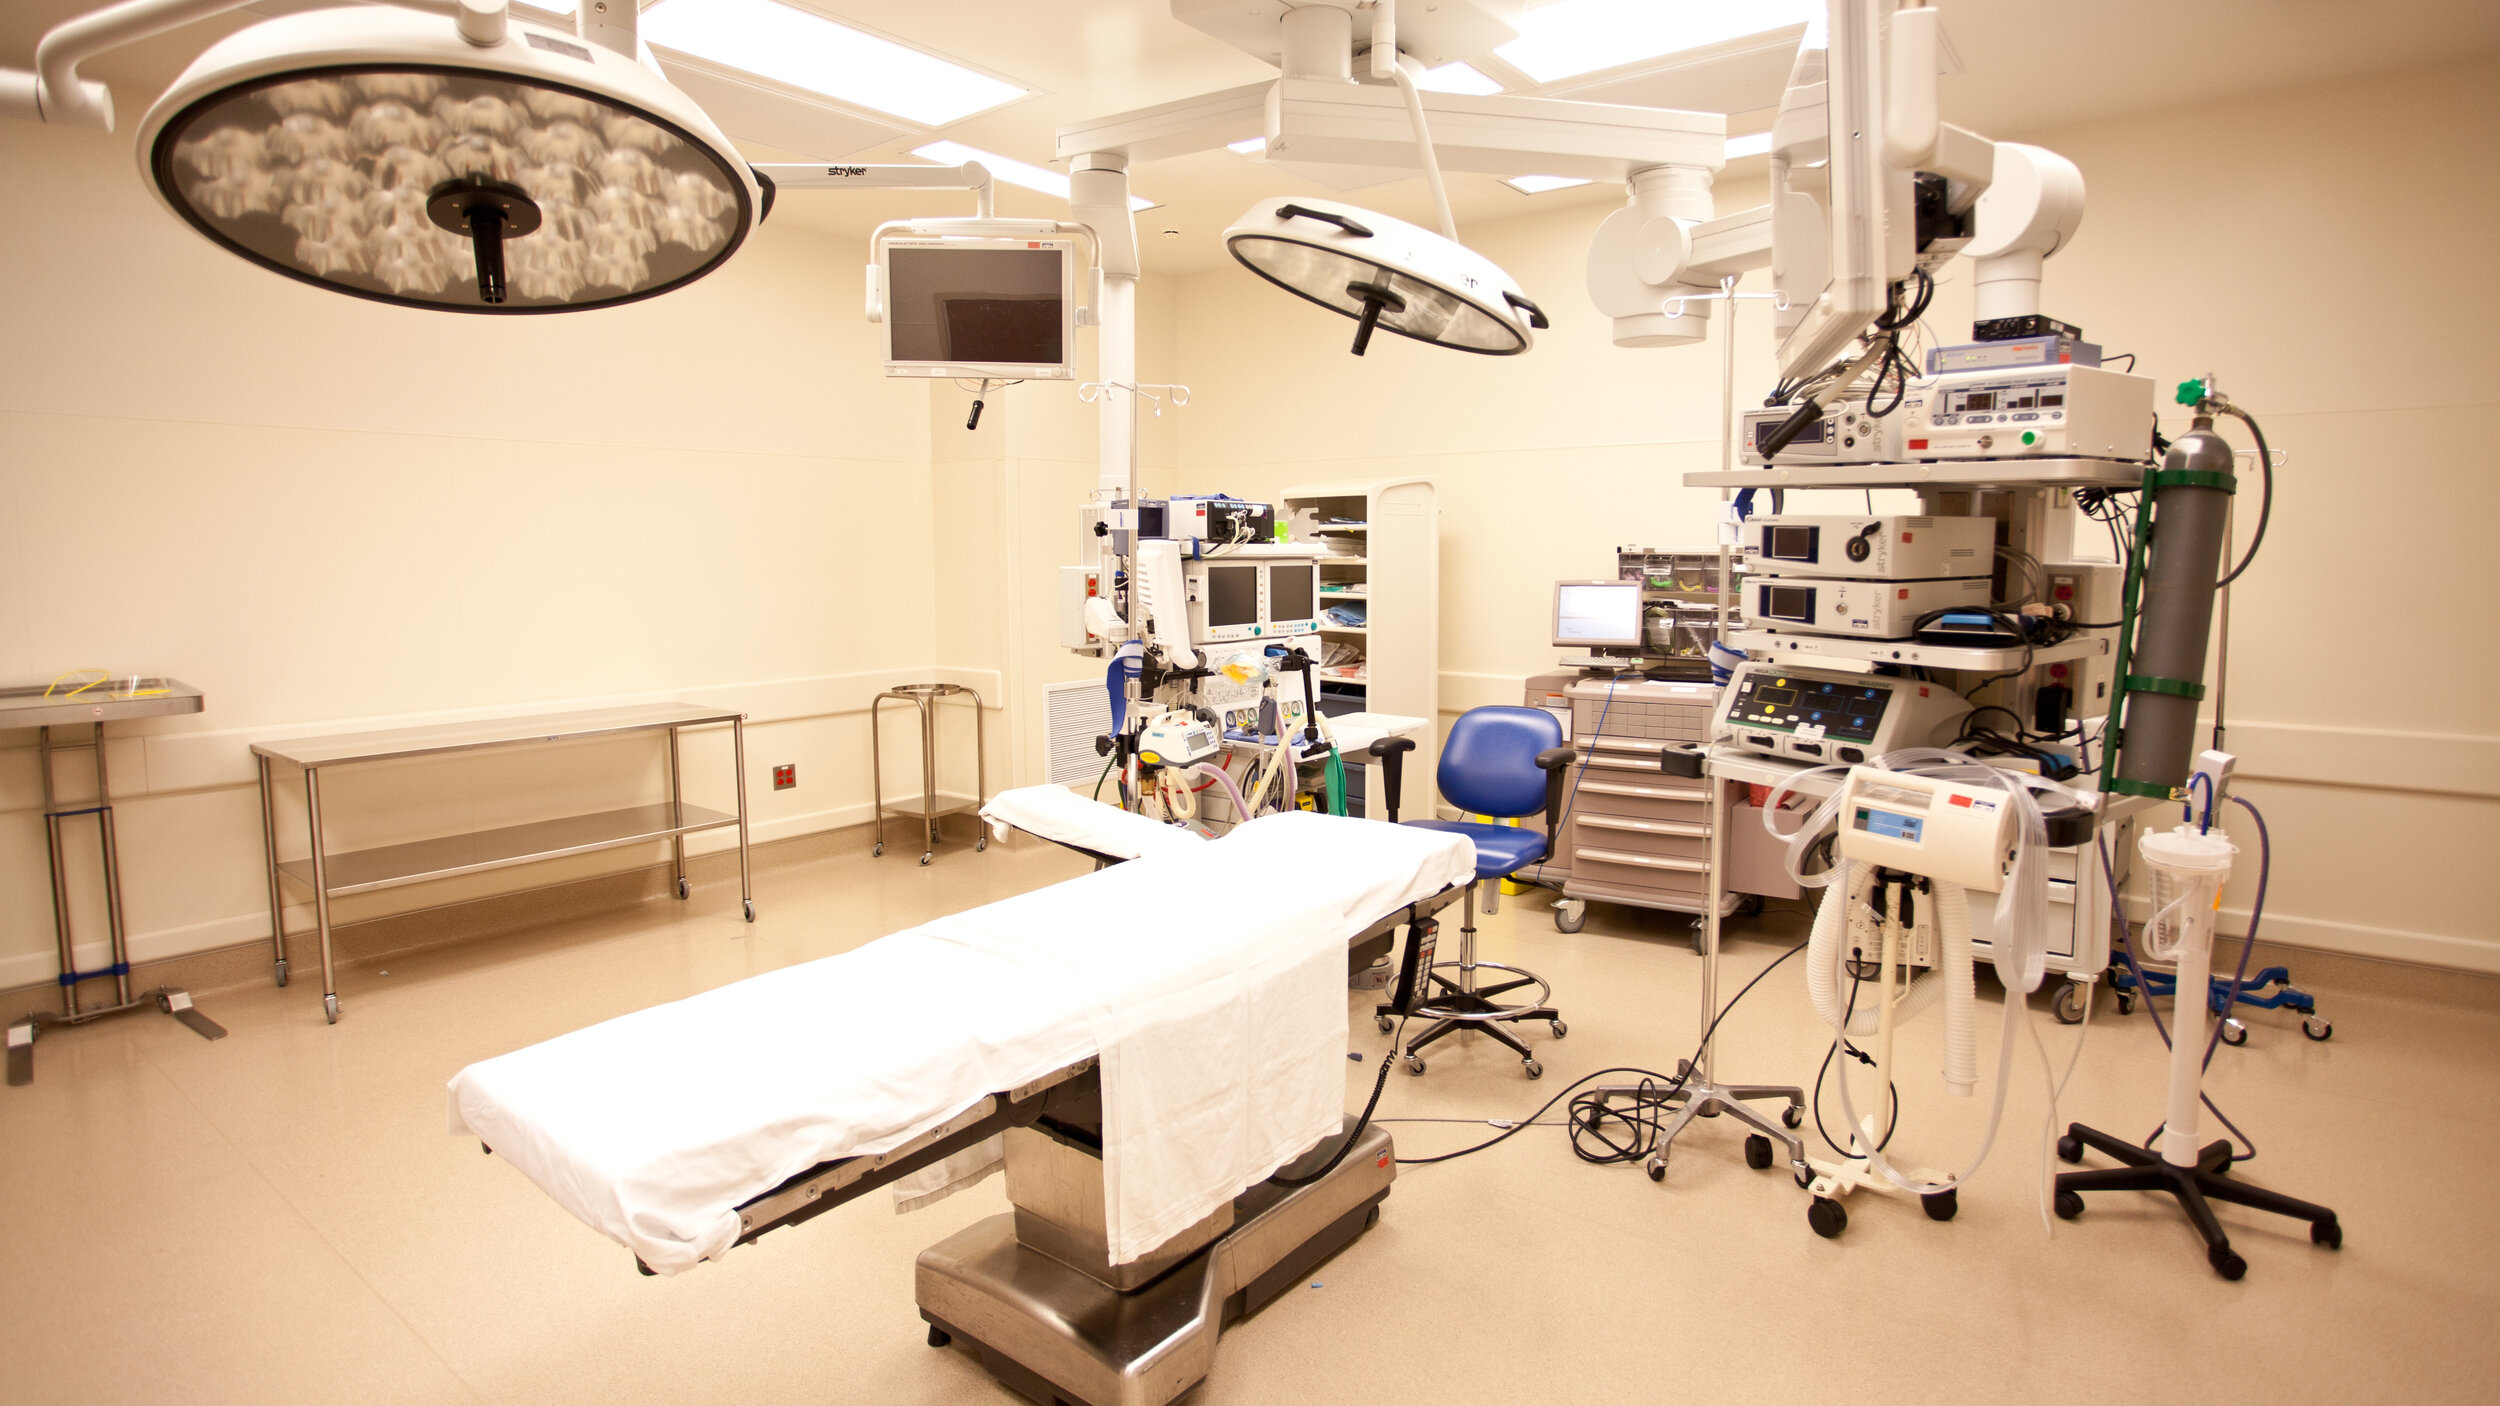bedside_monitor: (883, 244, 1071, 379), (1259, 551, 1329, 644), (1197, 549, 1265, 644)
cabinet: (1288, 488, 1439, 718)
chair: (1372, 688, 1573, 1090)
computer: (1545, 555, 1657, 656)
electrosurgical_unit: (1726, 666, 1999, 762)
iv_pole: (1660, 270, 1798, 1154), (1078, 378, 1193, 620)
medical_drawer: (1554, 676, 1746, 936)
operating_bed: (477, 791, 1484, 1274)
surgical_light: (124, 39, 766, 330), (1198, 161, 1554, 378)
table: (2, 668, 221, 1071)
utility_cart: (244, 692, 750, 1035), (872, 680, 994, 853)
ventilator: (1116, 496, 1386, 817)
